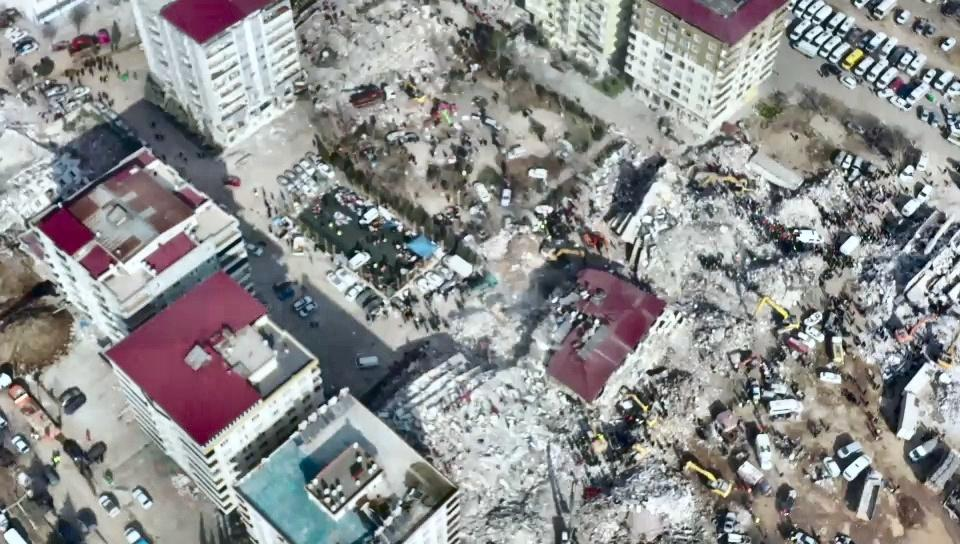kapali: (344, 317, 792, 543)
